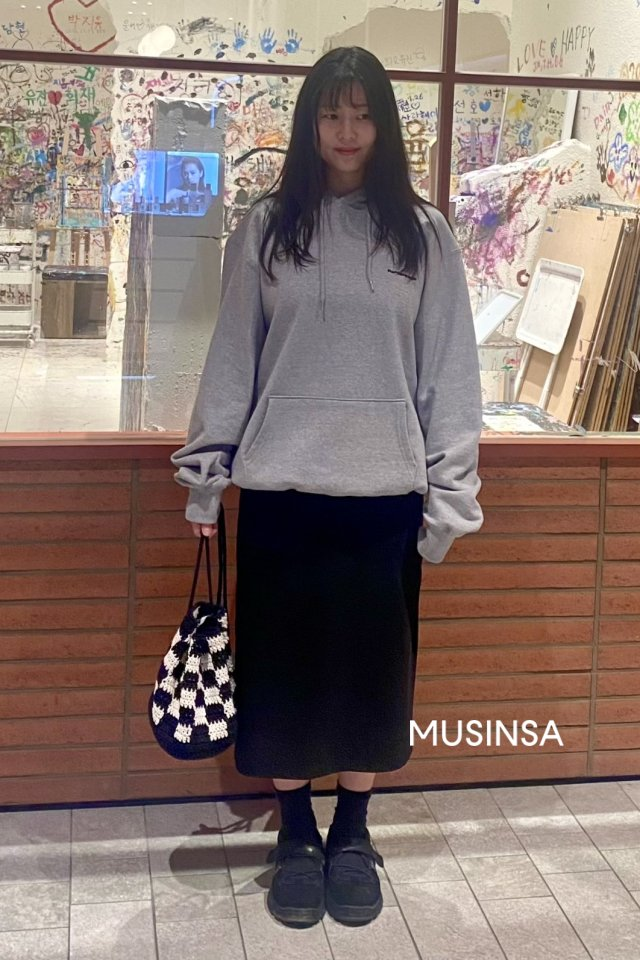Bag: (143, 494, 248, 766)
Hoodie: (169, 163, 498, 533)
Shoes: (257, 818, 393, 933)
Skirt: (234, 484, 431, 790)
